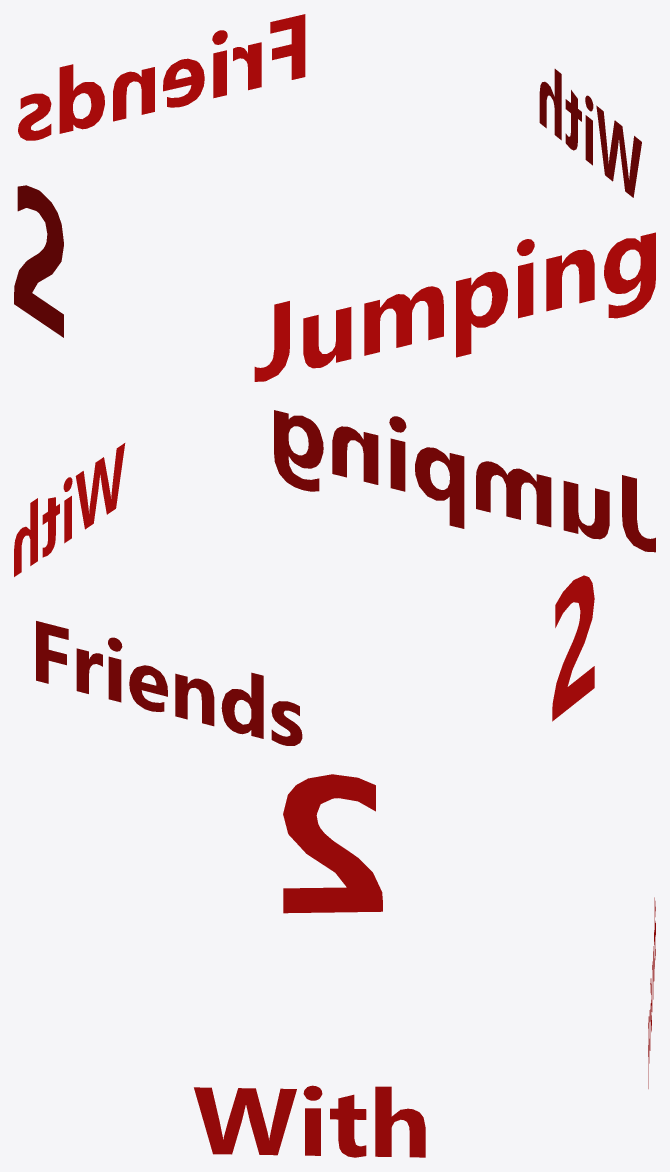
Rendered from fbx_MenuBallText.fbx.
3 renders of one model, top to bottom at view 1: azimuth 30°, elevation 25°; view 2: azimuth 150°, elevation 25°; view 3: azimuth 270°, elevation 25°, orthographic. The views are drawn at different scales.
Parts seen in each view (by area): view 1: curve1; view 2: curve1; view 3: curve1.
Boxes of the visible parts, x1,y1,x2,y2 form: curve1: (14, 14, 655, 381); curve1: (14, 410, 655, 745); curve1: (194, 774, 655, 1157).
Size of the model in its own units: 2.21 by 0.5069 by 2.13.
